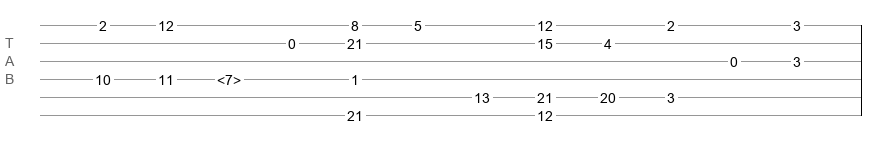0: (288, 36, 296, 46), (730, 54, 738, 64)
1: (351, 72, 359, 82)
10: (95, 72, 111, 82)
11: (158, 72, 174, 82)
12: (158, 18, 174, 28), (537, 108, 553, 118), (537, 18, 553, 28)
13: (474, 90, 490, 100)
15: (537, 36, 553, 46)
2: (99, 18, 107, 28), (667, 18, 675, 28)
20: (600, 90, 616, 100)
21: (347, 108, 363, 118), (347, 36, 363, 46), (537, 90, 553, 100)
3: (667, 90, 675, 100), (793, 54, 801, 64), (793, 18, 801, 28)
4: (604, 36, 612, 46)
5: (414, 18, 422, 28)
8: (351, 18, 359, 28)
harmonic: (217, 72, 241, 82)
